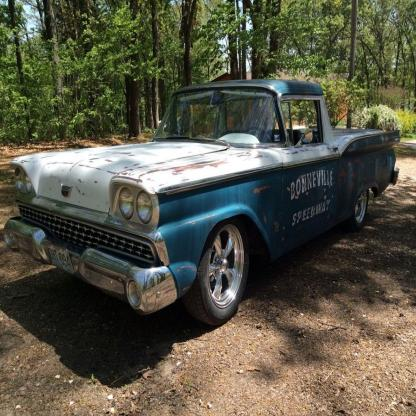Car: (4, 79, 408, 328)
